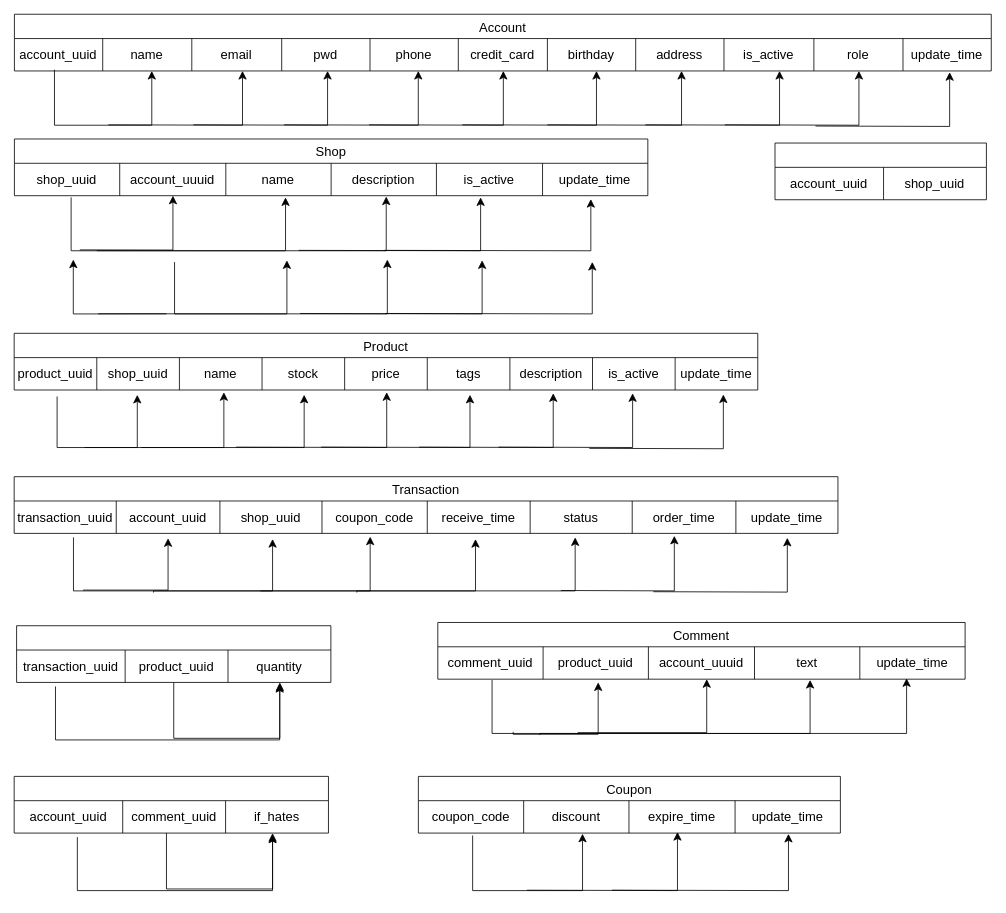
Image size: 1006x913. Some labels were removed from this diagram. The shapes that lost their labels are listed below. From the top down, each one's box as (x1, y1, x2, y2) in pixels, then its label:
(774, 142, 986, 200): Subscription
(16, 625, 331, 682): TransactionProductLog
(13, 776, 328, 833): HateList
